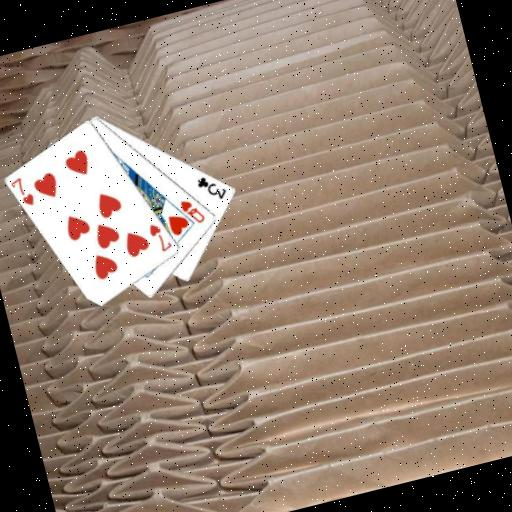3C: (193, 168, 230, 206)
7H: (7, 172, 38, 212), (144, 218, 175, 257)
QH: (176, 193, 208, 229)
